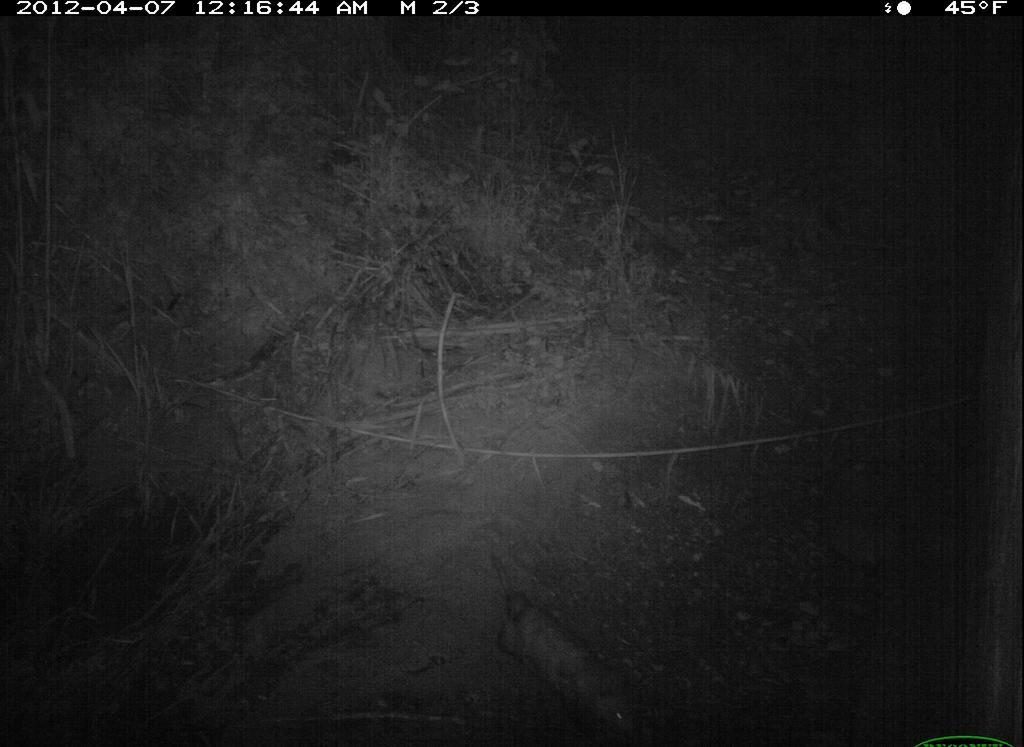opossum: (479, 539, 658, 744)
